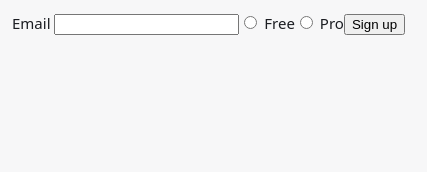
SubmitEvent + FormData › validates and submits typed data
Click the button "Sign up" at (374, 24), box left=344, top=14, right=405, bottom=35
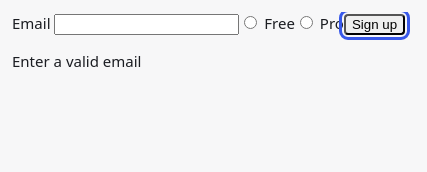
Now the message reads "Enter a valid email", box left=12, top=51, right=141, bottom=71
Type "ada@example.com" into the field labelled "Email" at (147, 24), box left=54, top=14, right=239, bottom=35
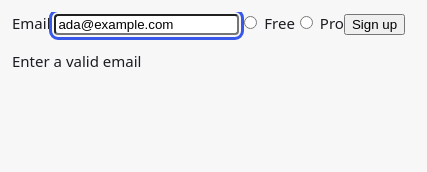
Click the button "Sign up" at (374, 24), box left=344, top=14, right=405, bottom=35
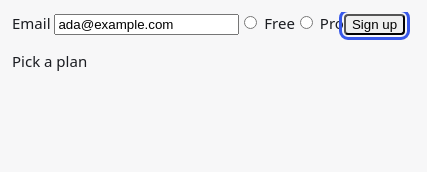
Now the message reads "Pick a plan", box left=12, top=51, right=87, bottom=71
Click the radio button labelled "Pro" at (306, 22), box left=300, top=16, right=313, bottom=29
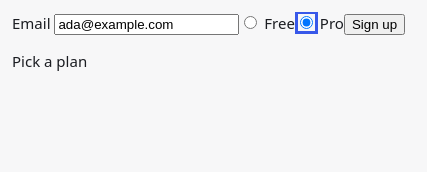
Click the button "Sign up" at (374, 24), box left=344, top=14, right=405, bottom=35
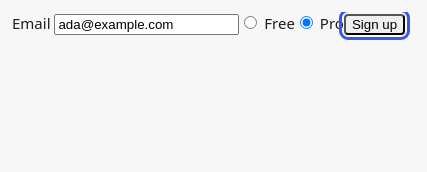
Now the message "Pick a plan" is gone
